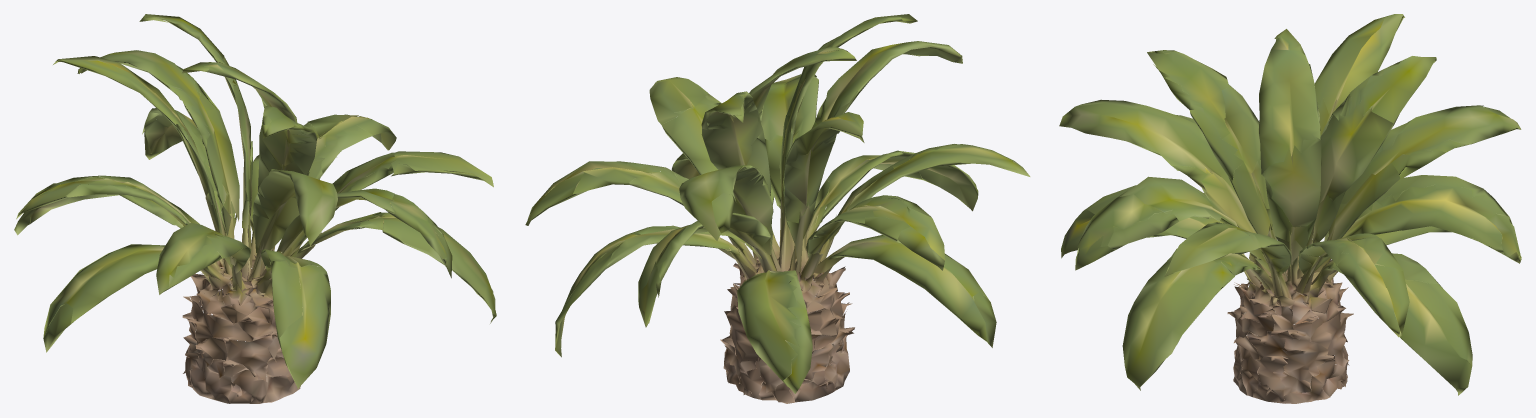
File: triassic-bjuvia.glb
The picture shows the model from 3 angles, left to right: view 1: azimuth 30°, elevation 25°; view 2: azimuth 150°, elevation 25°; view 3: azimuth 270°, elevation 25°; orthographic projection. The views are drawn at different scales.
Visible parts, largest first — view 1: bjuvia; view 2: bjuvia; view 3: bjuvia.
Boxes of the visible parts, x1,y1,x2,y2 form: bjuvia: (14,14,496,403); bjuvia: (525,14,1030,403); bjuvia: (1059,14,1521,403).
Size of the model in its own units: 1.9 by 1.5 by 1.95.
